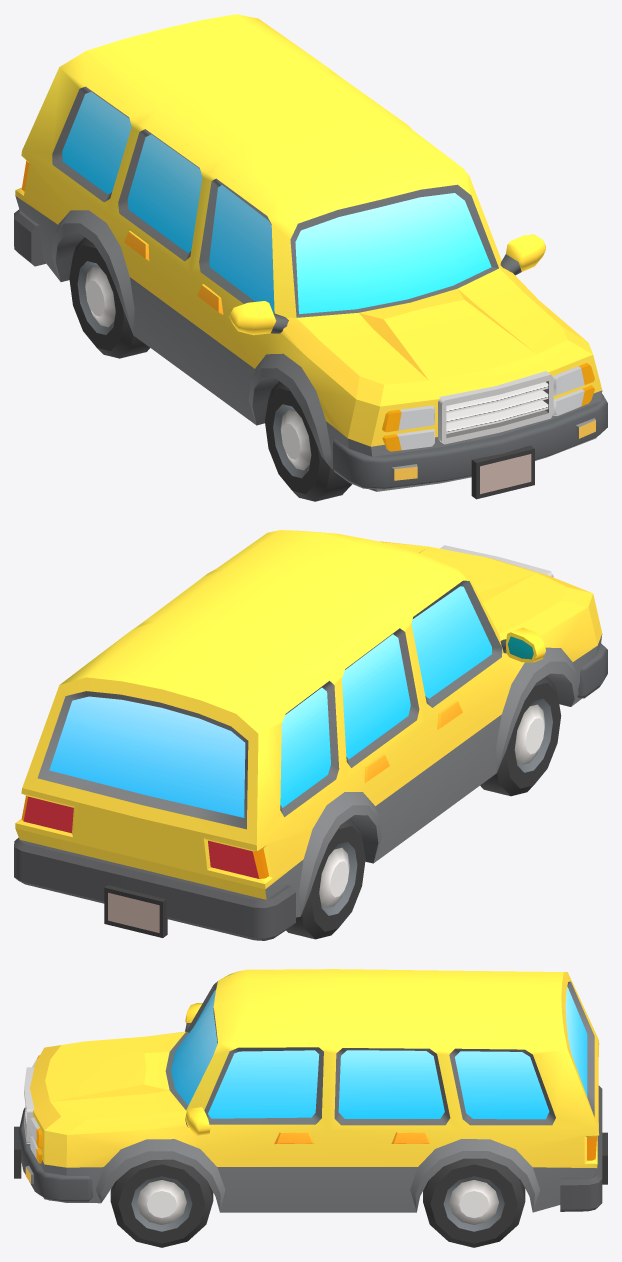
Rendered from city2-car-08.glb.
3 renders of one model, top to bottom at view 1: azimuth 30°, elevation 25°; view 2: azimuth 150°, elevation 25°; view 3: azimuth 270°, elevation 25°, orthographic. The views are drawn at different scales.
Parts seen in each view (by area): view 1: Cylinder.037, Wheel_037, Wheel_038; view 2: Cylinder.037, Wheel_038, Wheel_037; view 3: Cylinder.037, Wheel_040, Wheel_039.
Part boxes in pixels (left/top/right/bottom): Cylinder.037: left=14, top=14, right=607, bottom=499; Wheel_037: left=265, top=381, right=351, bottom=501; Wheel_038: left=69, top=237, right=149, bottom=358; Cylinder.037: left=14, top=530, right=607, bottom=940; Wheel_038: left=286, top=818, right=365, bottom=939; Wheel_037: left=480, top=676, right=561, bottom=796; Cylinder.037: left=14, top=969, right=607, bottom=1212; Wheel_040: left=423, top=1158, right=525, bottom=1247; Wheel_039: left=110, top=1159, right=213, bottom=1247.
Bounding box in the file's own units: 2.26 × 1.81 × 4.66.
2 materials, 2 textured.
